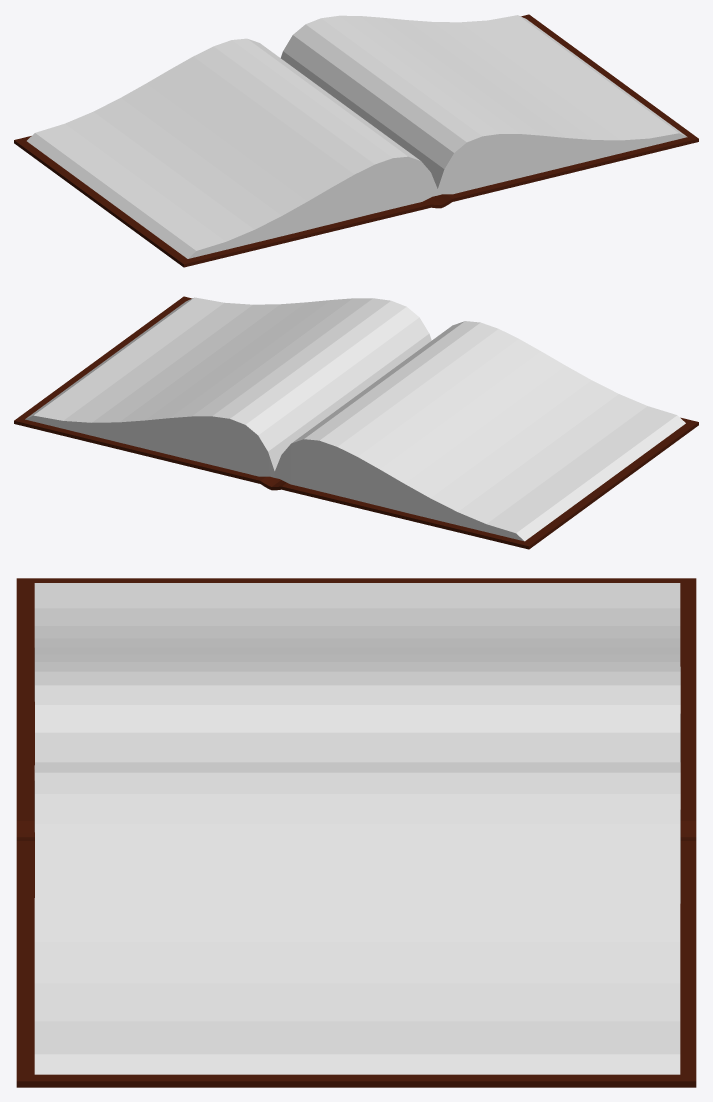
File: Diary.fbx
3 views of the same model, one above another, from view 1: azimuth 30°, elevation 25°; view 2: azimuth 150°, elevation 25°; view 3: azimuth 270°, elevation 25° (orthographic). The views are drawn at different scales.
Visible parts, largest first — view 1: Book, Cube; view 2: Book, Cube; view 3: Book, Cube.
Boxes of the visible parts, x1,y1,x2,y2 form: Book: (27, 15, 687, 258); Cube: (14, 14, 698, 267); Book: (25, 297, 685, 541); Cube: (14, 296, 698, 549); Book: (34, 583, 680, 1074); Cube: (16, 578, 696, 1087).
Size of the model in its own units: 427 by 45.5 by 244.
